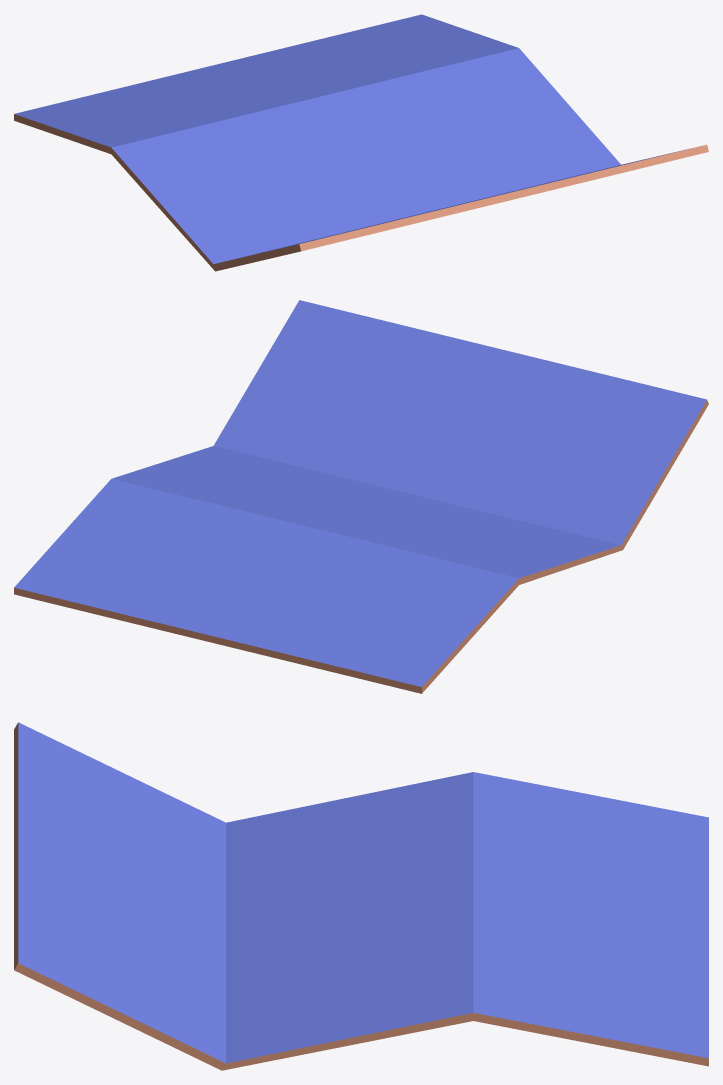
The model's file is lettre_cuisine.fbx.
3 renders of one model, top to bottom at view 1: azimuth 30°, elevation 25°; view 2: azimuth 150°, elevation 25°; view 3: azimuth 270°, elevation 25°, orthographic. The views are drawn at different scales.
Visible parts, largest first — view 1: Cube.001; view 2: Cube.001; view 3: Cube.001.
Boxes of the visible parts, box(x1,y1,x2,y2) form: Cube.001: box(14, 14, 708, 271); Cube.001: box(14, 300, 708, 693); Cube.001: box(14, 722, 708, 1070).
Size of the model in its own units: 81.78 by 17.05 by 99.73.
